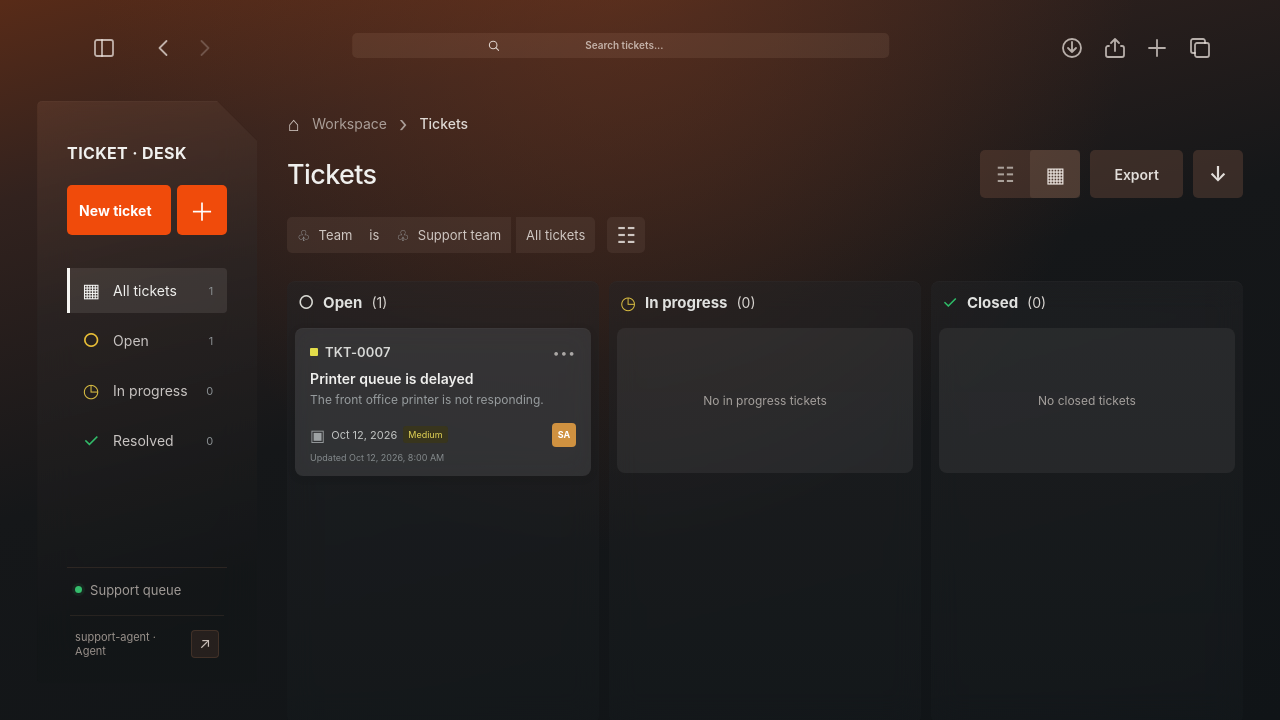
Ticket Desk UI workflow › updates ticket priority and filters the queue by status
Expected: the heading "Printer queue is delayed" is shown, top-left (310, 370), bottom-right (474, 387)
Click the heading "•••" at [564, 352], box top-left (553, 345), bottom-right (576, 360)
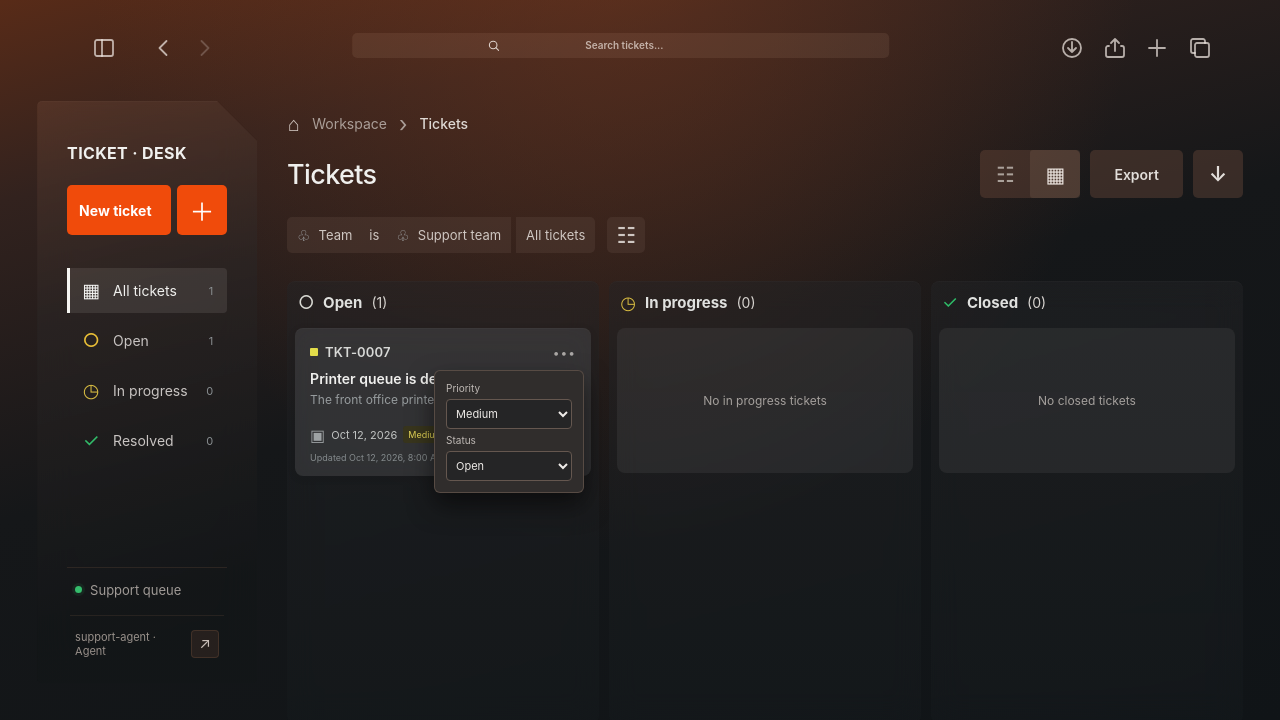
Select "high" in the dropdown labelled "Priority" at [509, 414], box top-left (446, 399), bottom-right (572, 429)
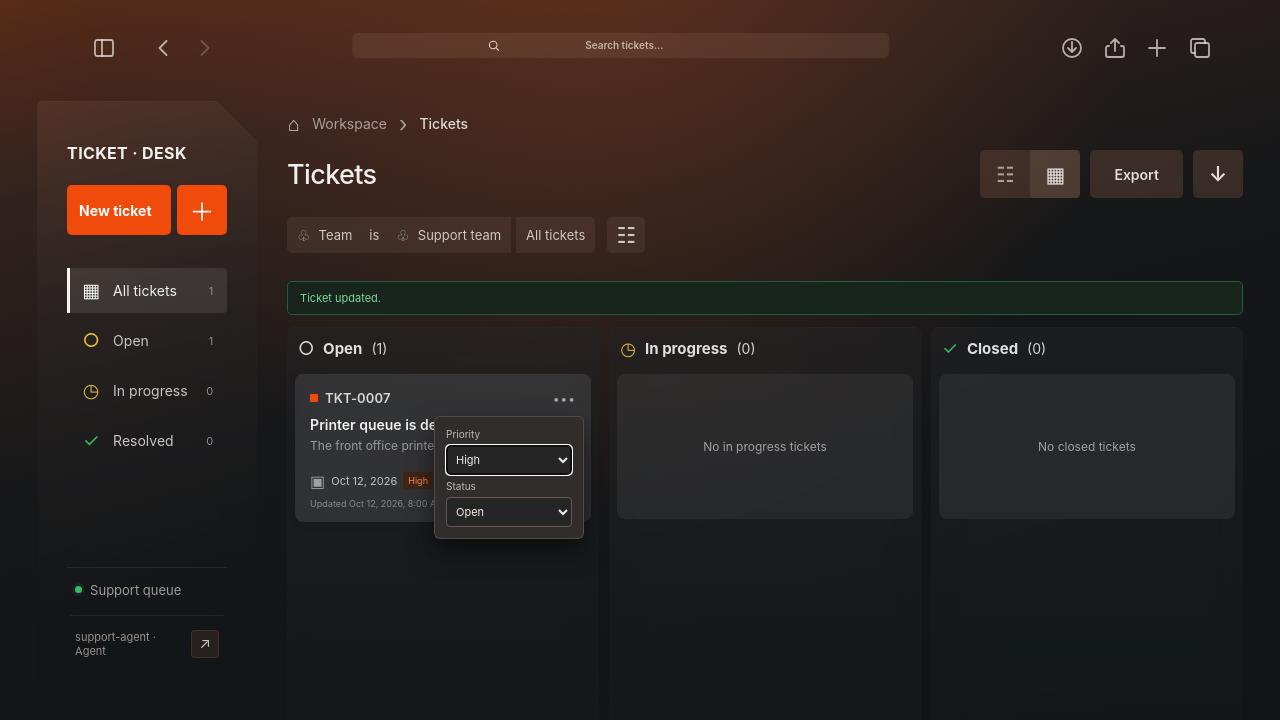
Expected: the text with class "ticket-priority-label" reads "high", top-left (408, 475), bottom-right (428, 486)
Click the button "◷ In progress 0" at [147, 391], box top-left (67, 368), bottom-right (227, 413)
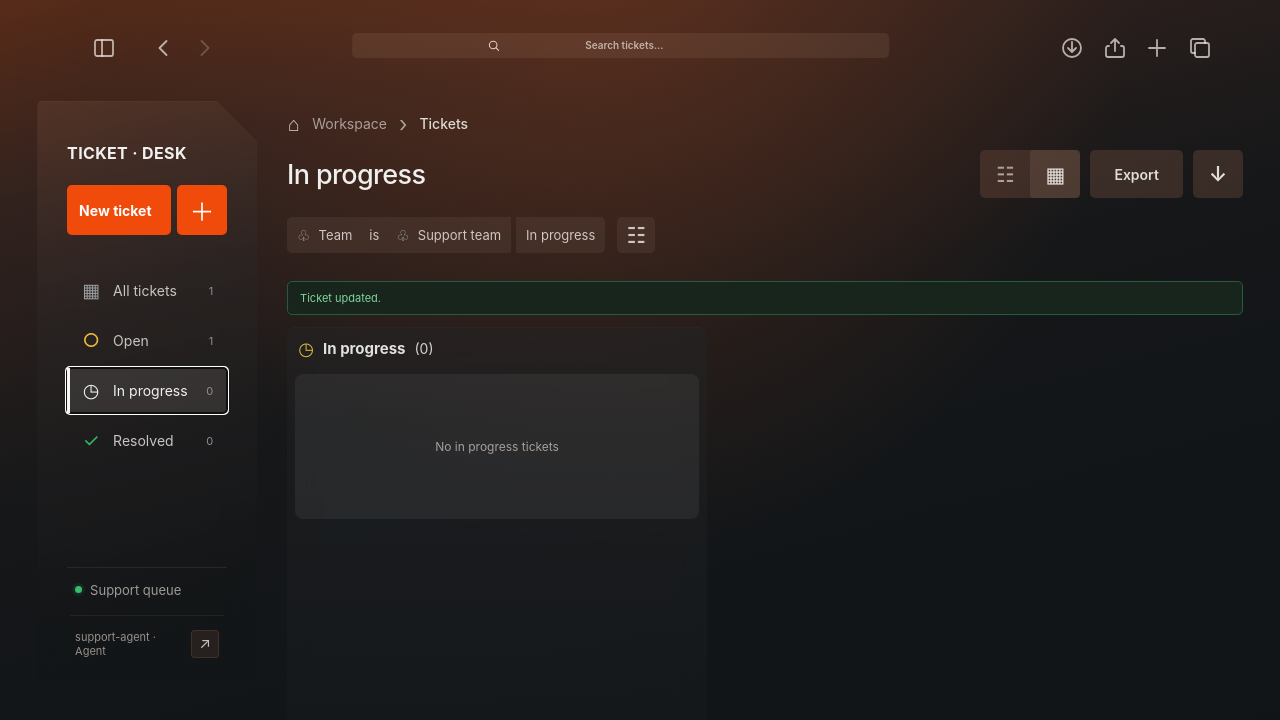
Expected: the text "No in progress tickets" is shown, top-left (295, 374), bottom-right (699, 519)
Click the button "▦ All tickets 1" at [147, 291], box top-left (67, 268), bottom-right (227, 313)
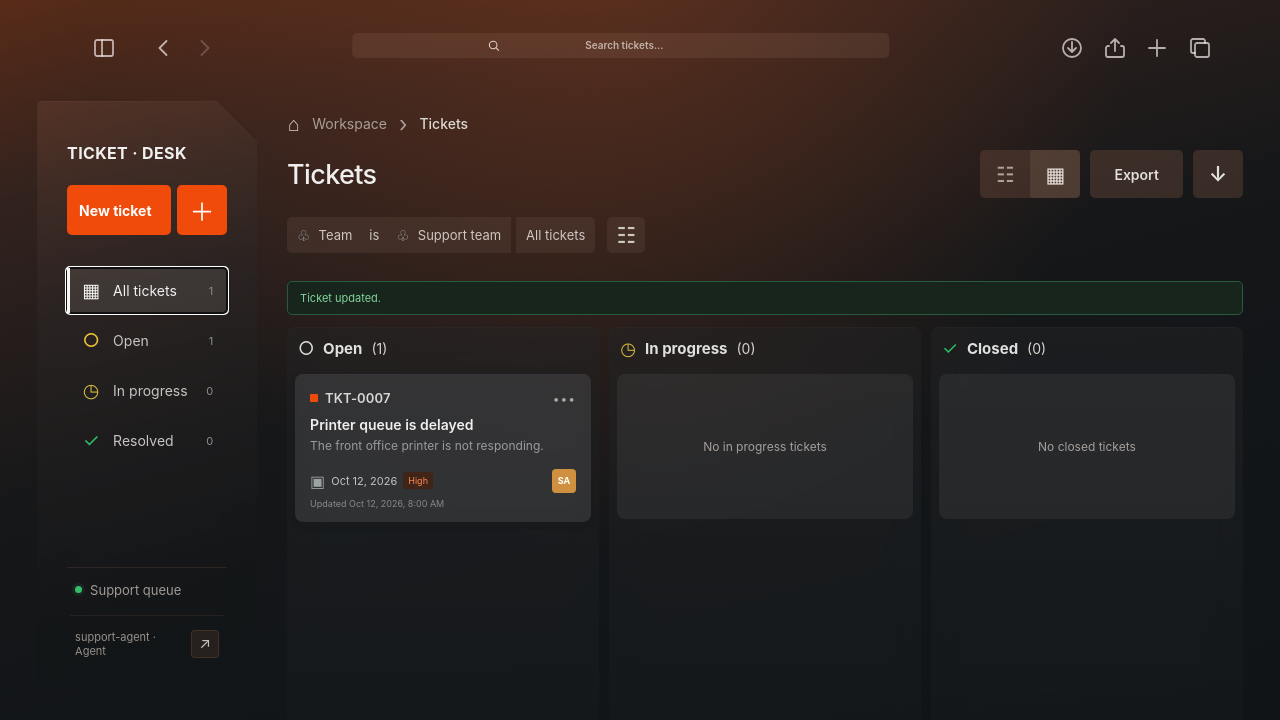
Expected: the heading "Printer queue is delayed" is shown, top-left (310, 416), bottom-right (474, 433)
